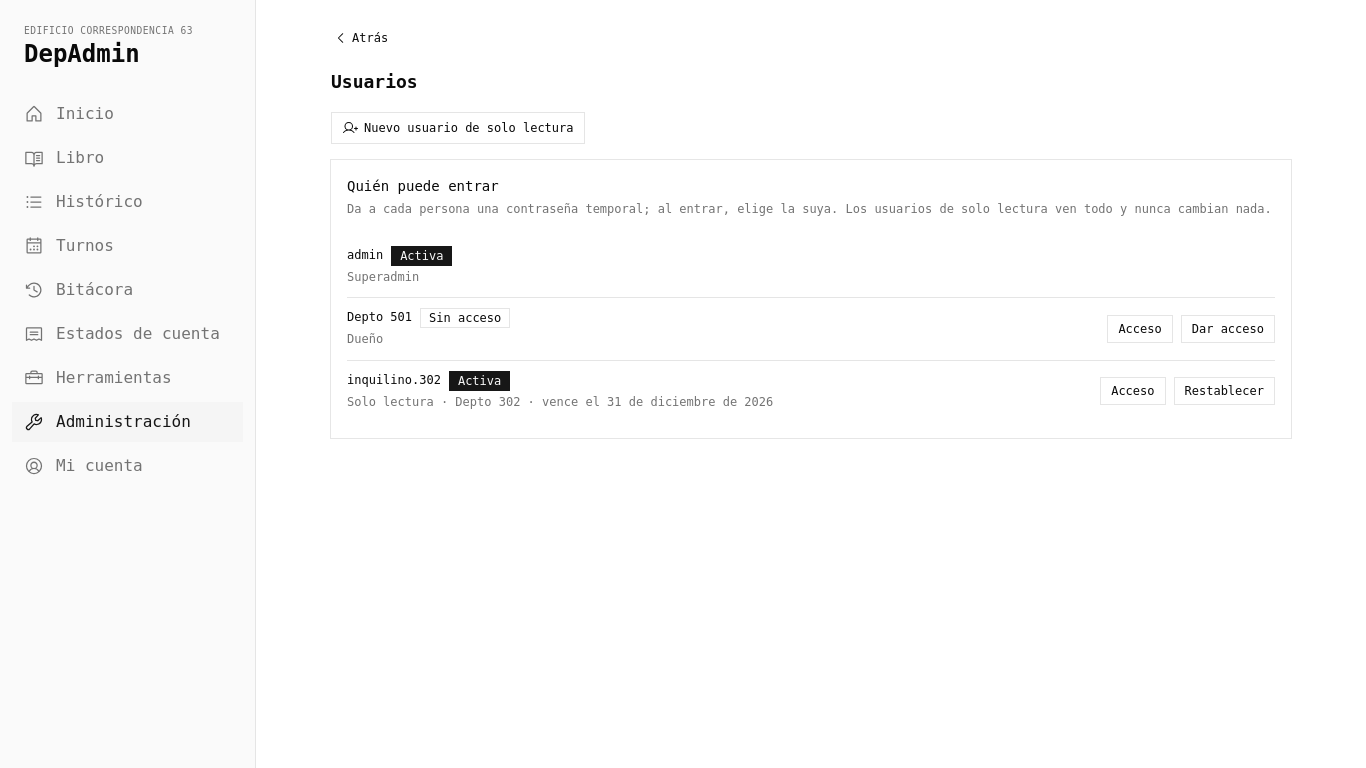
Test: UsersPage › gives an owner access and shows the temporary password once
Expected: the text "Sin acceso" is shown, left=420, top=308, right=510, bottom=328
Click the button "Dar acceso" at x=1228, y=329, box left=1181, top=315, right=1275, bottom=343
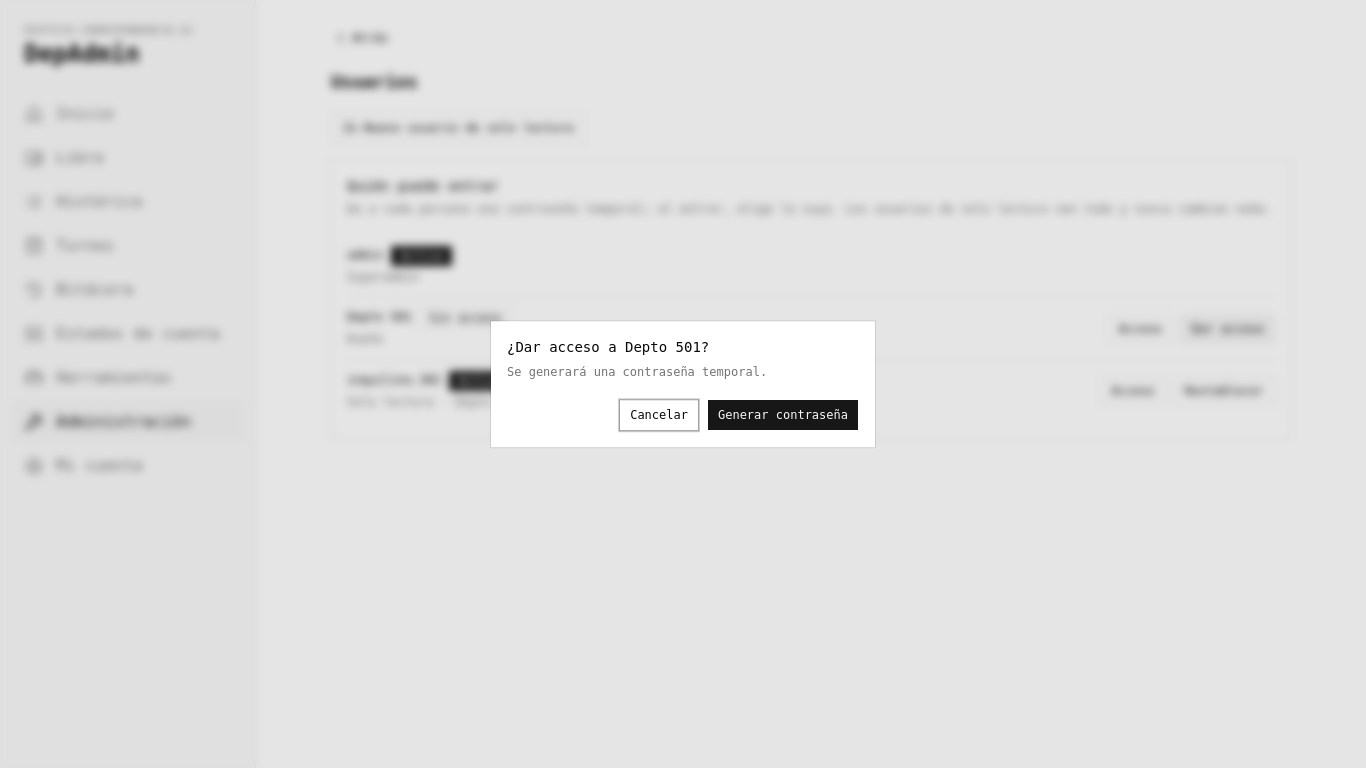
Click the button "Generar contraseña" at x=783, y=415, box left=707, top=399, right=859, bottom=431
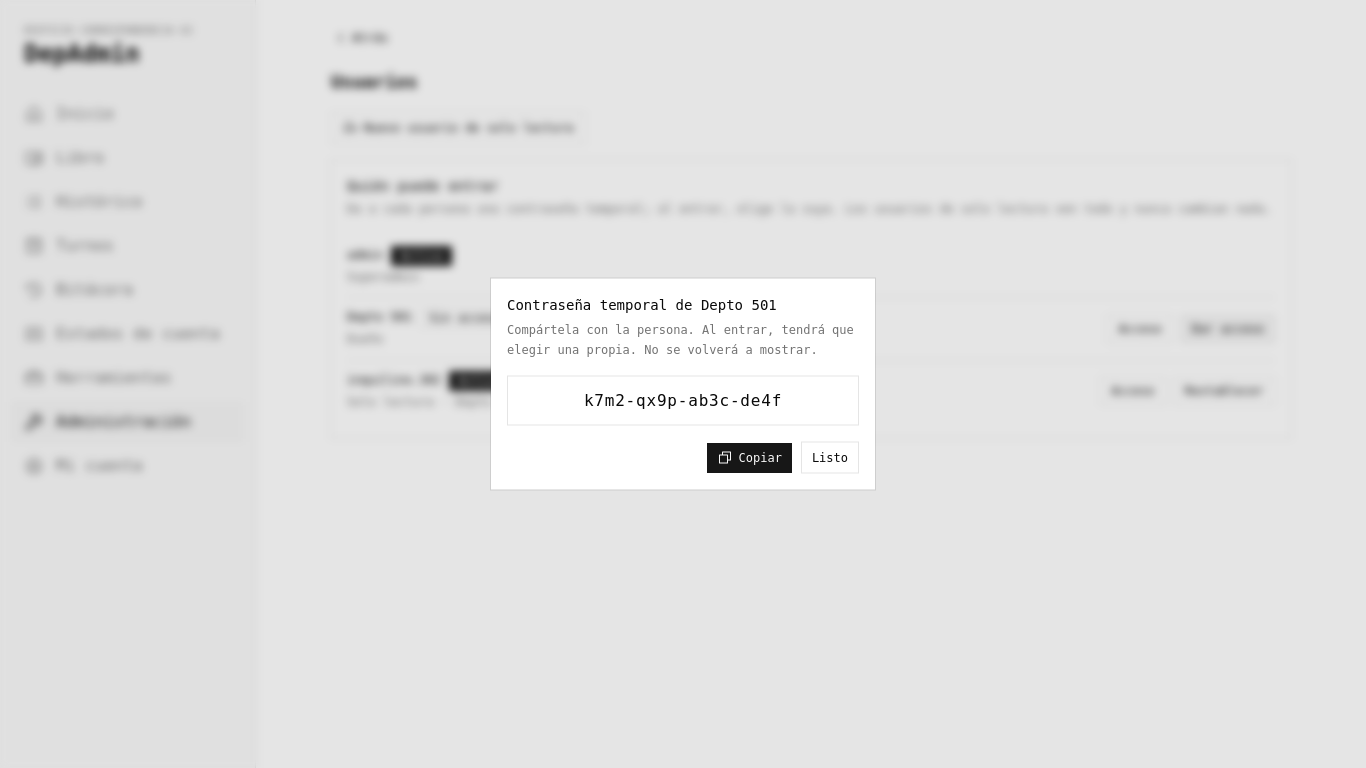
Result: the text with test id "temporary-password" reads "k7m2-qx9p-ab3c-de4f" at left=584, top=390, right=782, bottom=410
